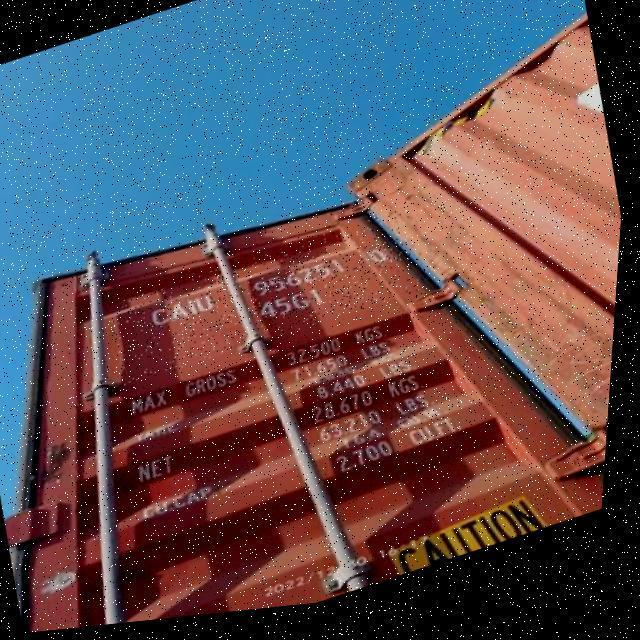container_number_h: (108, 213, 430, 392)
